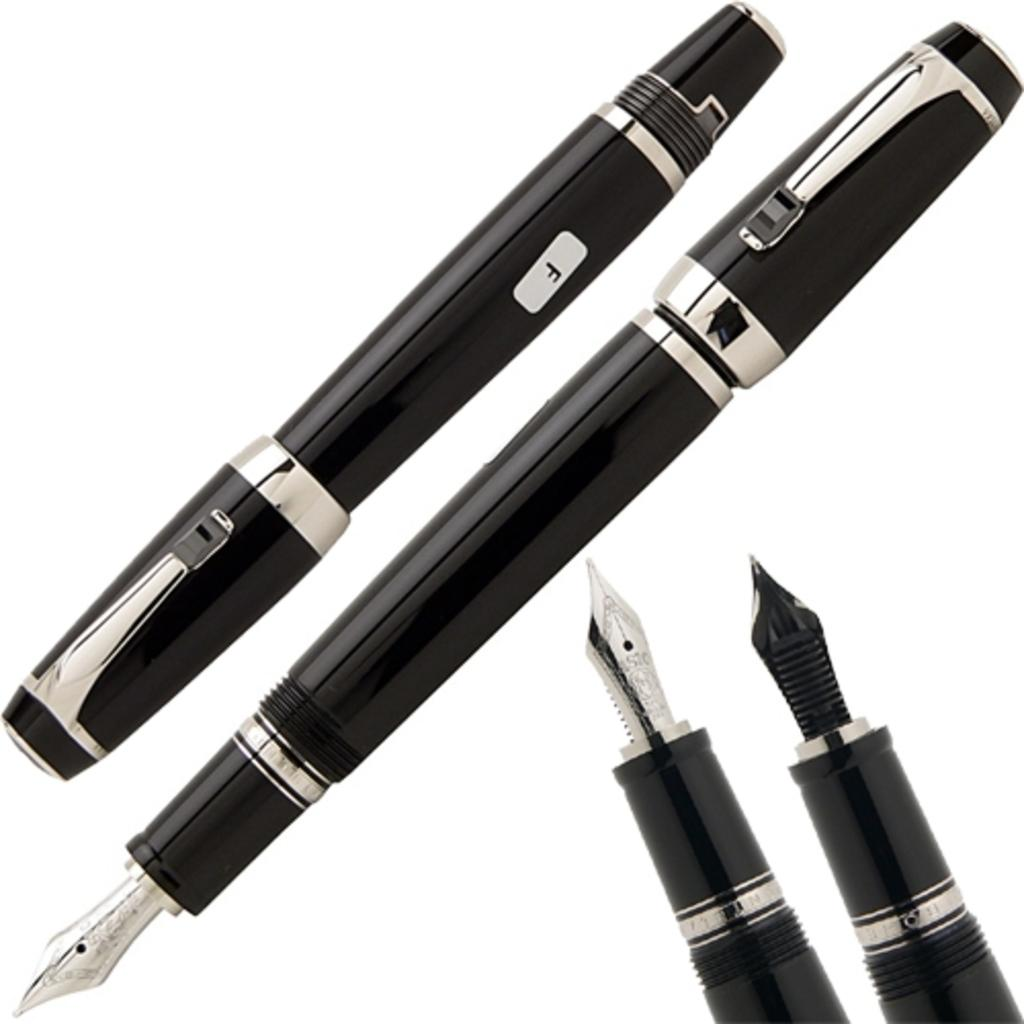pen: (0, 0, 791, 784), (752, 545, 1022, 1012), (586, 553, 848, 1022)
